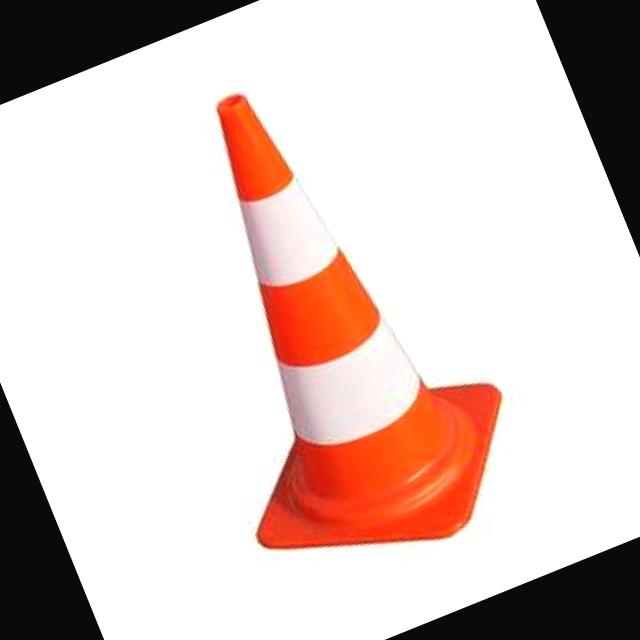cone: (89, 34, 556, 626)
